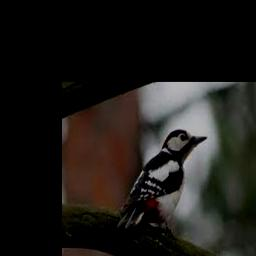Woodpecker: (117, 130, 208, 237)
